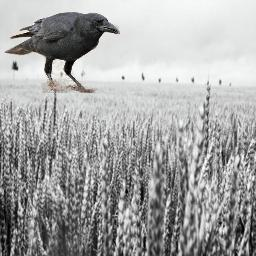Crow: (4, 12, 120, 93)
